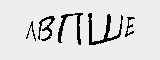В: (35, 15, 55, 44)
Е: (124, 15, 137, 38)
Л: (22, 20, 37, 40)
П: (56, 11, 84, 48)
Ш: (86, 12, 123, 45)
